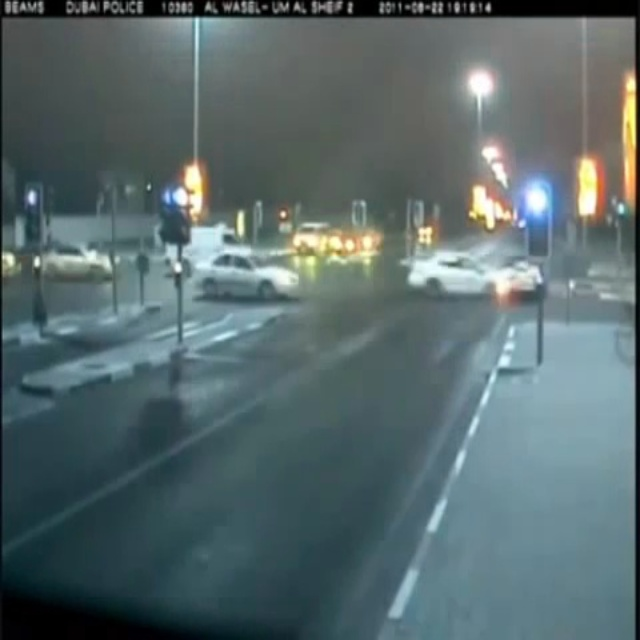acc: (408, 244, 545, 304)
